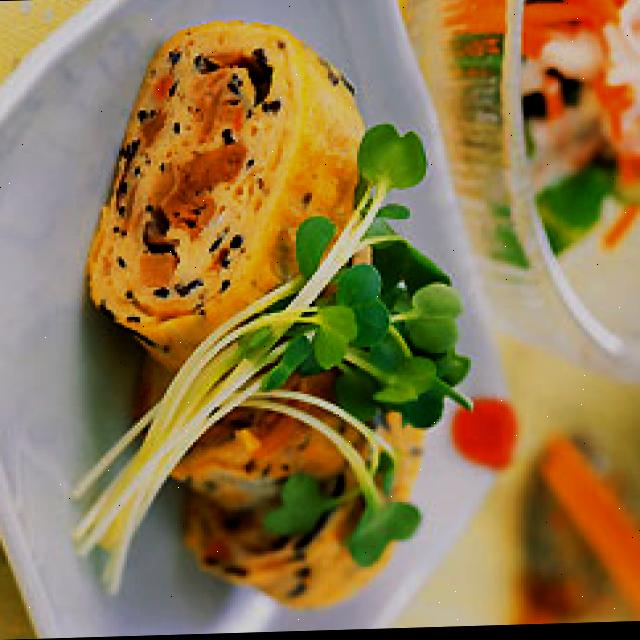鸡蛋料理: (80, 0, 473, 609)
